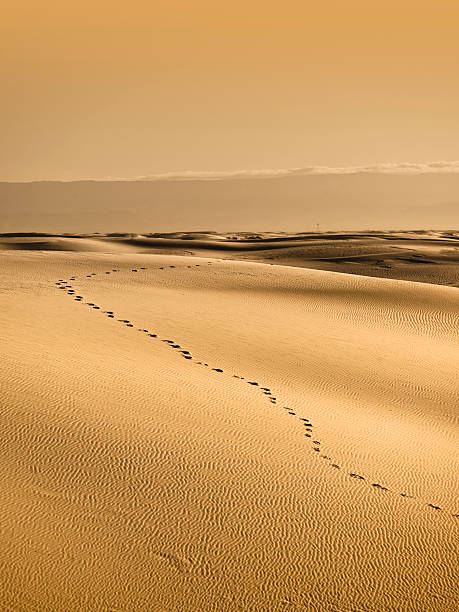human_foot_print: (300, 417, 340, 469)
